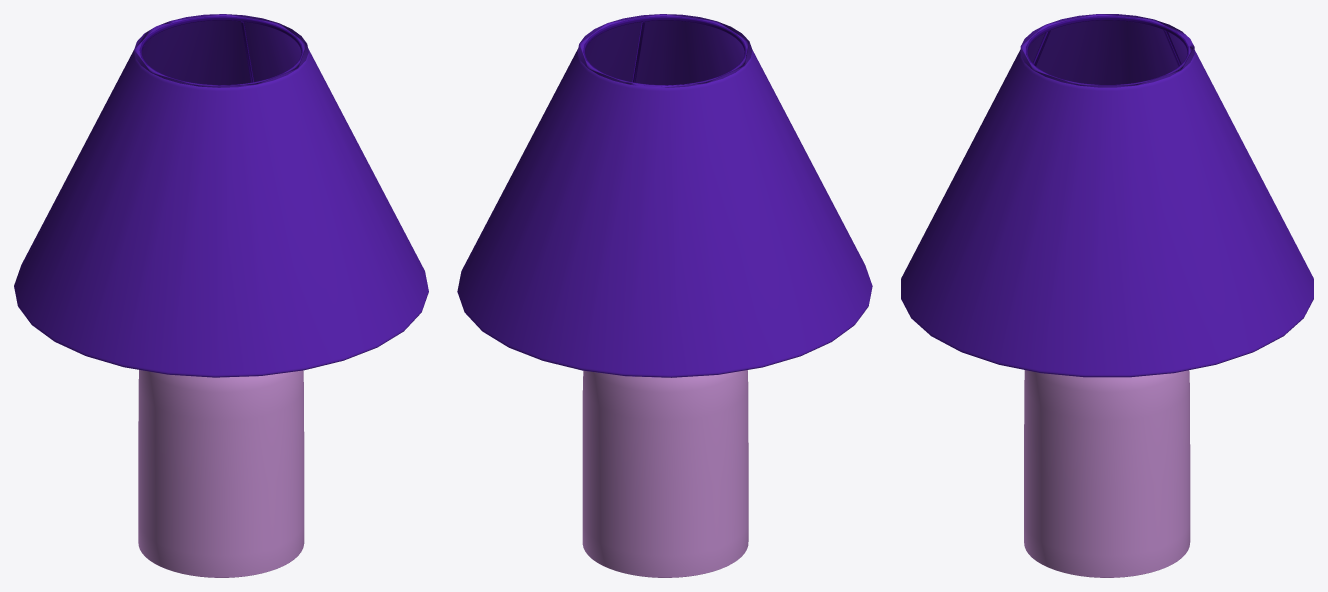
File: gia lamp.obj
The picture shows the model from 3 angles, left to right: view 1: azimuth 30°, elevation 25°; view 2: azimuth 150°, elevation 25°; view 3: azimuth 270°, elevation 25°; orthographic projection.
Parts seen in each view (by area): view 1: head, body, construction; view 2: head, body, construction; view 3: head, body, construction.
Part boxes in pixels (x1=…): head: x1=14, y1=14, x2=428, y2=377; body: x1=138, y1=370, x2=304, y2=577; construction: x1=139, y1=16, x2=303, y2=85; head: x1=457, y1=14, x2=872, y2=377; body: x1=582, y1=370, x2=748, y2=577; construction: x1=583, y1=16, x2=746, y2=85; head: x1=901, y1=14, x2=1313, y2=377; body: x1=1024, y1=370, x2=1190, y2=577; construction: x1=1026, y1=16, x2=1188, y2=85.
Size of the model in its own units: 29.64 by 39 by 29.64.
